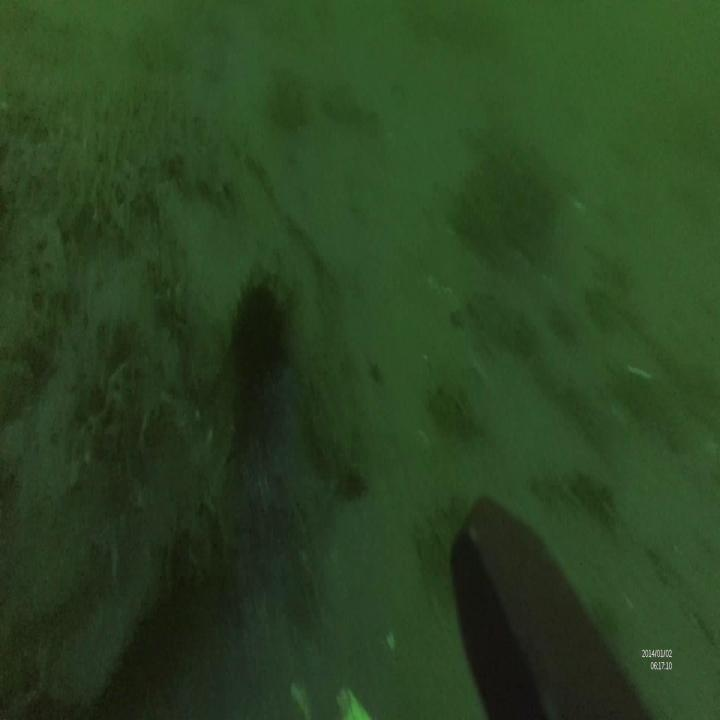echinus: (229, 276, 296, 394)
